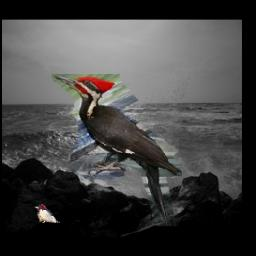Woodpecker: (53, 75, 183, 227), (35, 204, 62, 223)
